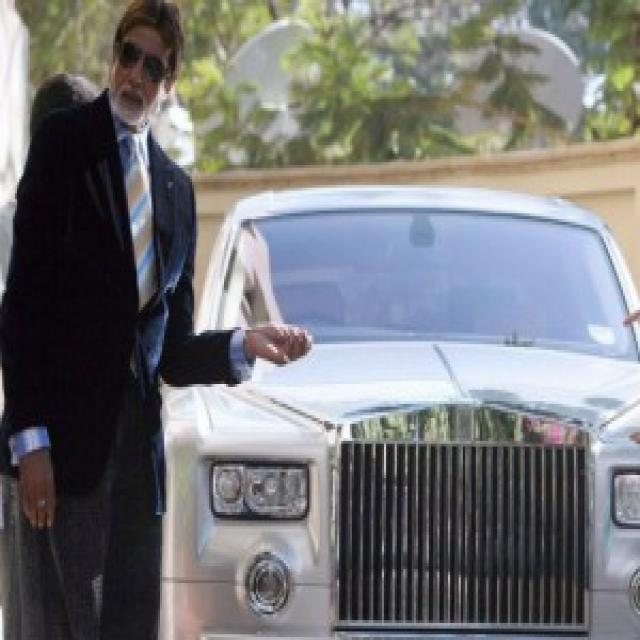car: (205, 199, 640, 640)
person: (5, 1, 210, 640)
